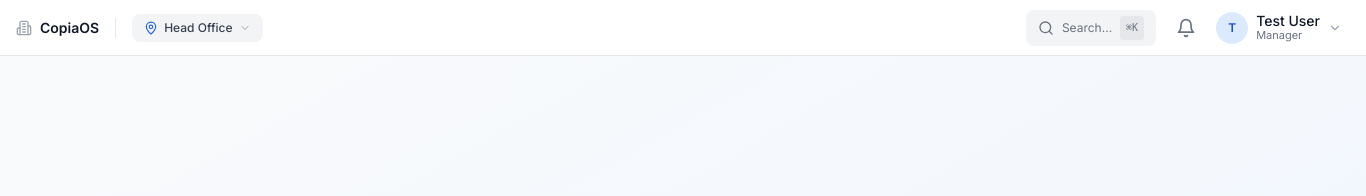
Scenario: Header › shows location dropdown when clicked
Click the button "Head Office" at (197, 28), box [132,14,263,42]
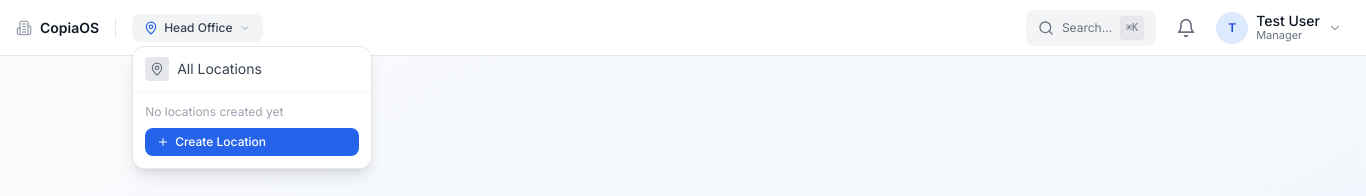
Result: the text "All Locations" is shown at [145,56,262,80]
Result: the button "Create Location" is shown at [145,128,359,156]
